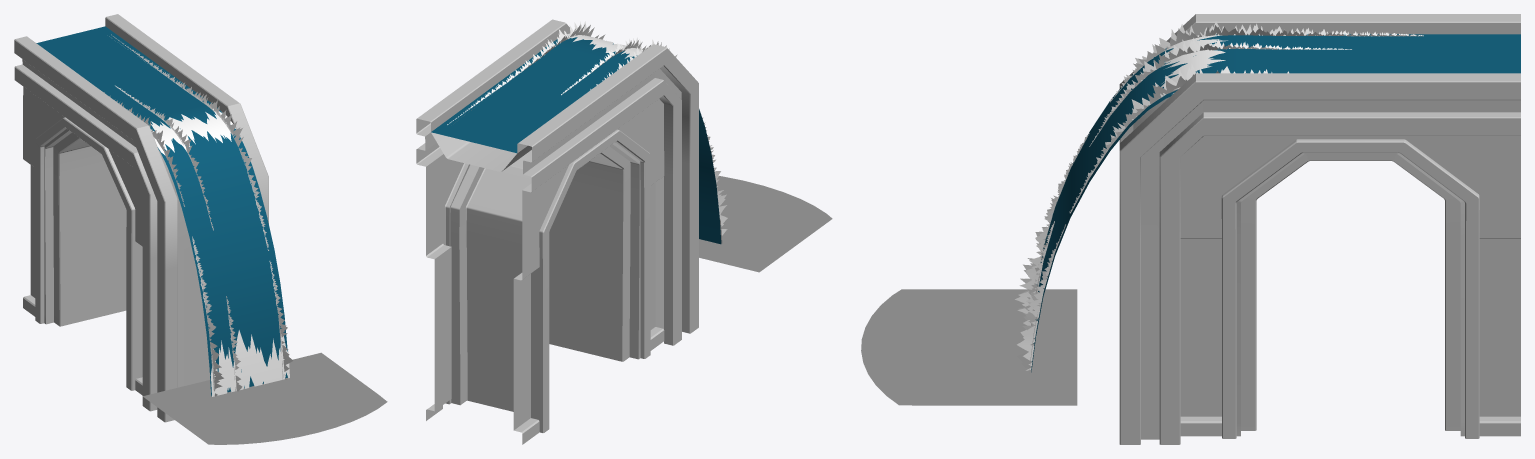
File: Pipe_Input_Distiller.fbx
3 renders of one model, left to right at view 1: azimuth 30°, elevation 25°; view 2: azimuth 150°, elevation 25°; view 3: azimuth 270°, elevation 25°, orthographic. The views are drawn at different scales.
Visible parts, largest first — view 1: Pipe_Input_Distiller, Liquid, Surface_Drop_01, Edges_Side, Bot_Edge_Slow, Bot_Edge_Fast, Top_Edge_Fast, Top_Edge_Slow; view 2: Pipe_Input_Distiller, Liquid, Surface_Drop_01, Edges_Side; view 3: Pipe_Input_Distiller, Surface_Drop_01, Liquid, Edges_Side, Top_Edge_Slow, Top_Edge_Fast.
Boxes of the visible parts, x1,y1,x2,y2 form: Pipe_Input_Distiller: (14,14,268,422); Liquid: (36,26,287,396); Surface_Drop_01: (143,352,387,444); Edges_Side: (104,34,293,396); Bot_Edge_Slow: (210,334,289,396); Bot_Edge_Fast: (211,330,289,396); Top_Edge_Fast: (156,108,231,155); Top_Edge_Slow: (151,109,235,151); Pipe_Input_Distiller: (416,19,698,444); Liquid: (431,37,721,244); Surface_Drop_01: (699,176,832,272); Edges_Side: (447,21,727,235); Pipe_Input_Distiller: (1119,14,1520,444); Surface_Drop_01: (861,289,1077,405); Liquid: (1031,34,1520,372); Edges_Side: (1015,21,1423,370); Top_Edge_Slow: (1160,35,1227,94); Top_Edge_Fast: (1161,39,1225,90).
Bounding box in the file's own units: 0.8086 × 1.2 × 1.94.
